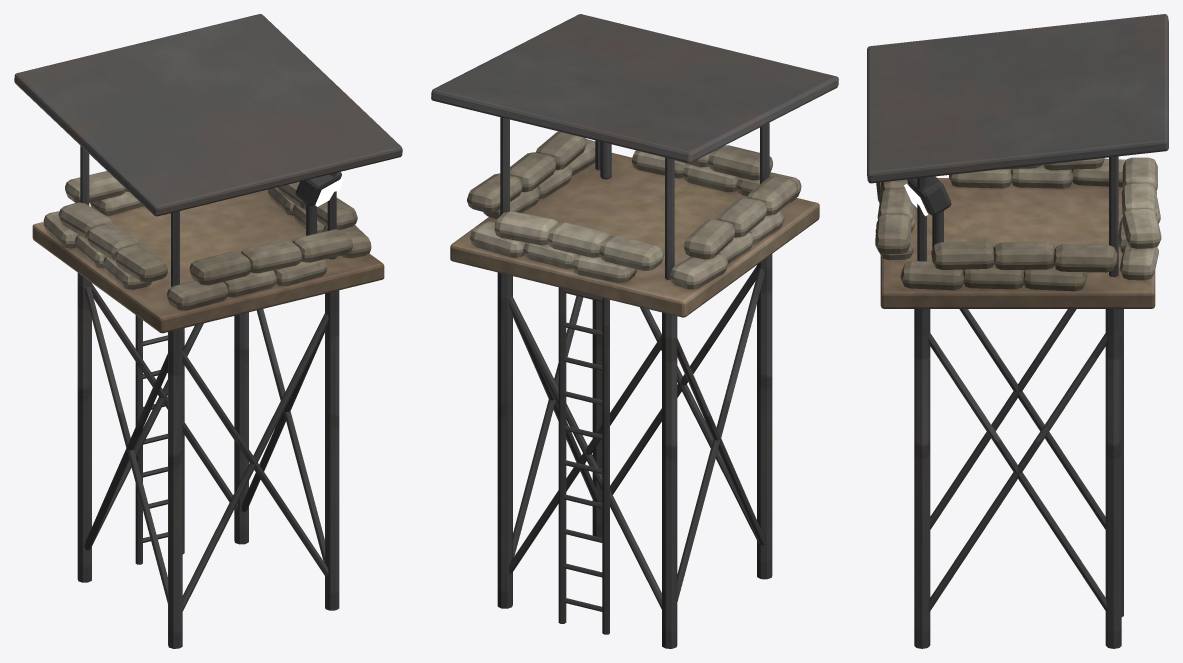
Rendered from base-tower.glb.
3 renders of one model, left to right at view 1: azimuth 30°, elevation 25°; view 2: azimuth 150°, elevation 25°; view 3: azimuth 270°, elevation 25°, orthographic. The views are drawn at different scales.
Visible parts, largest first — view 1: base_tower; view 2: base_tower; view 3: base_tower.
Part boxes in pixels (left/top/right/bottom): base_tower: left=14, top=14, right=402, bottom=648; base_tower: left=431, top=14, right=838, bottom=648; base_tower: left=867, top=14, right=1168, bottom=648.
Size of the model in its own units: 0.95 by 1.83 by 0.9456.
Materials: 2 (1 with a texture image).
